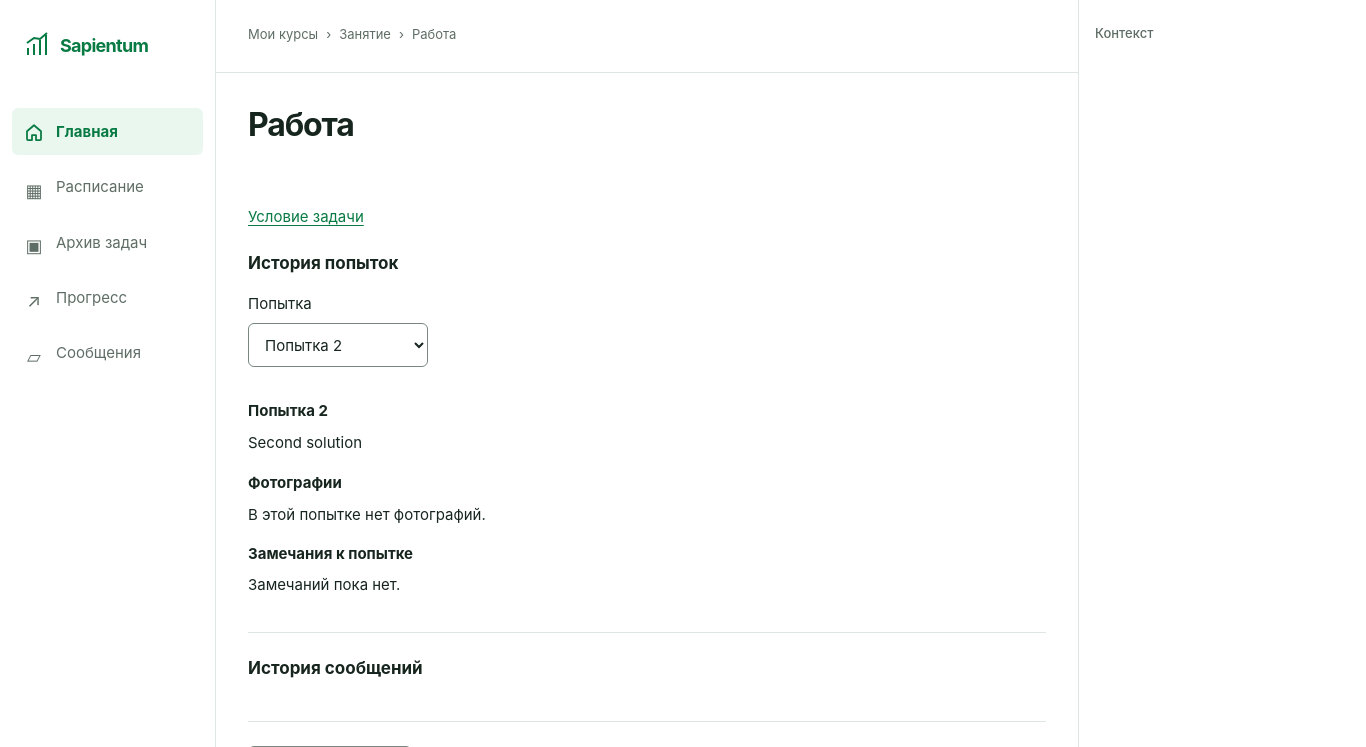
Test case: isolated protected work › selects old attempt and its feedback without issuing writes or loading blocked files
Check: the text "Second solution" is shown, box [248,432,362,452]
Check: the text "First feedback" is not shown
Select "Попытка 1" in the dropdown labelled "Попытка" at (338, 345), box [248,323,428,367]
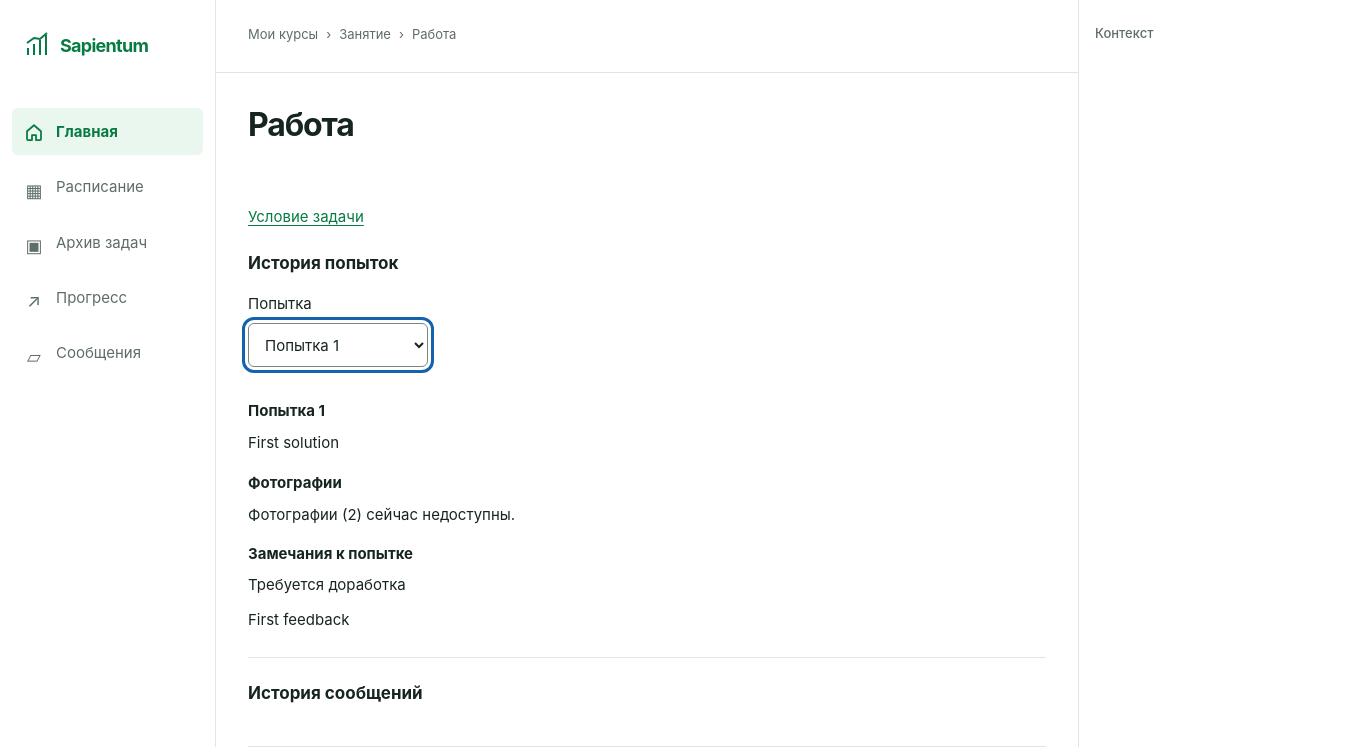
Check: the text "First feedback" is shown, box [248,610,350,629]
Check: the text "Фотографии (2) сейчас недоступны." is shown, box [248,504,515,524]
